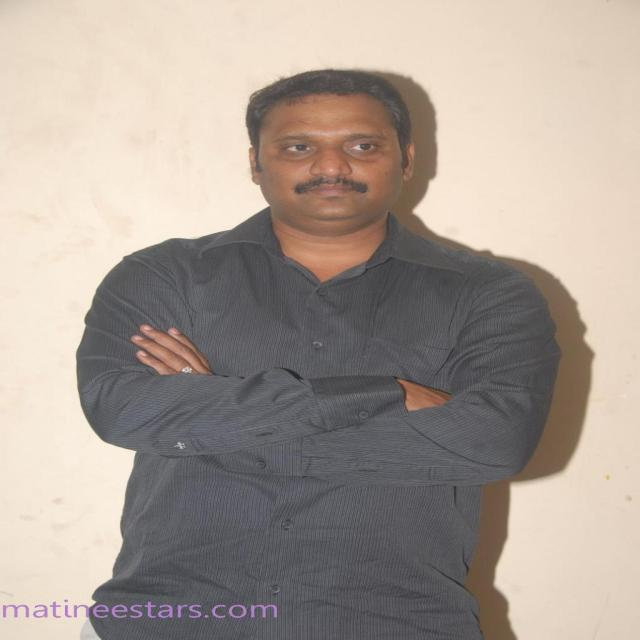Face: (251, 94, 424, 226)
